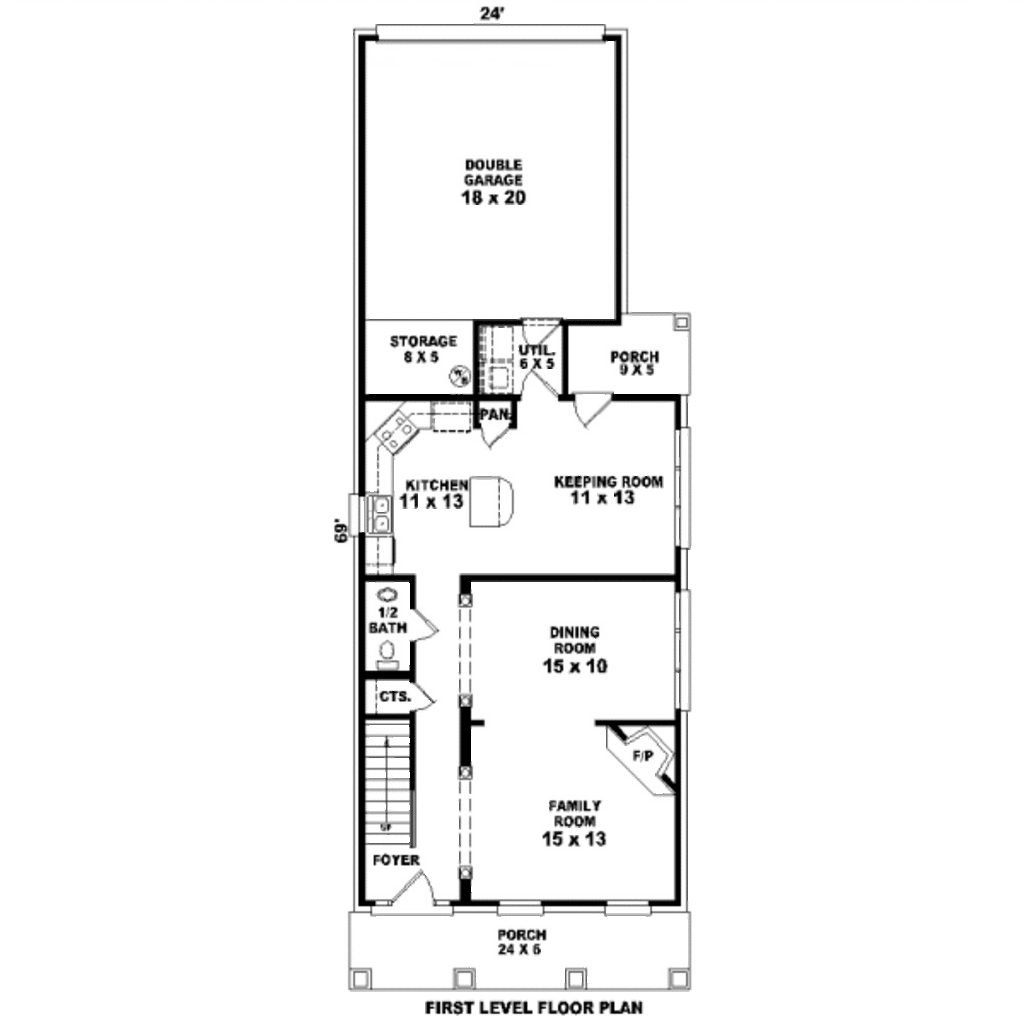door: (562, 393, 613, 433), (378, 870, 433, 906), (409, 604, 441, 654)
large_sink: (363, 639, 402, 672)
stairs: (361, 714, 416, 851)
twin_sink: (359, 488, 391, 537)
windows: (671, 428, 696, 558), (672, 581, 695, 712), (600, 897, 662, 918), (493, 899, 551, 917)
